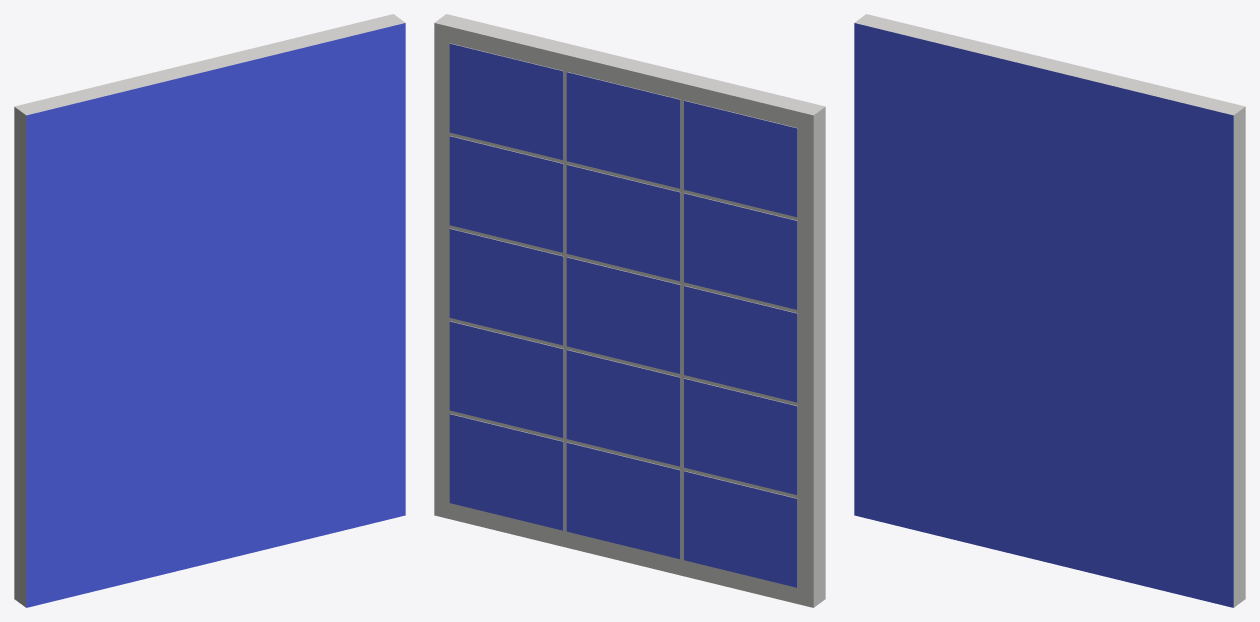
The model's file is Solar Panel 50 wp.glb.
3 renders of one model, left to right at view 1: azimuth 30°, elevation 25°; view 2: azimuth 150°, elevation 25°; view 3: azimuth 330°, elevation 25°, orthographic.
Visible parts, largest first — view 1: Node2, Node3; view 2: Node2, Node3, Node1; view 3: Node2, Node3.
Boxes of the visible parts, <box> form: Node2: <box>26,23,405,607</box>; Node3: <box>14,14,405,607</box>; Node2: <box>449,43,797,587</box>; Node3: <box>434,14,825,607</box>; Node1: <box>450,43,797,587</box>; Node2: <box>854,23,1233,607</box>; Node3: <box>854,14,1245,607</box>.
Bounding box in the file's own units: 540 × 670 × 31.
